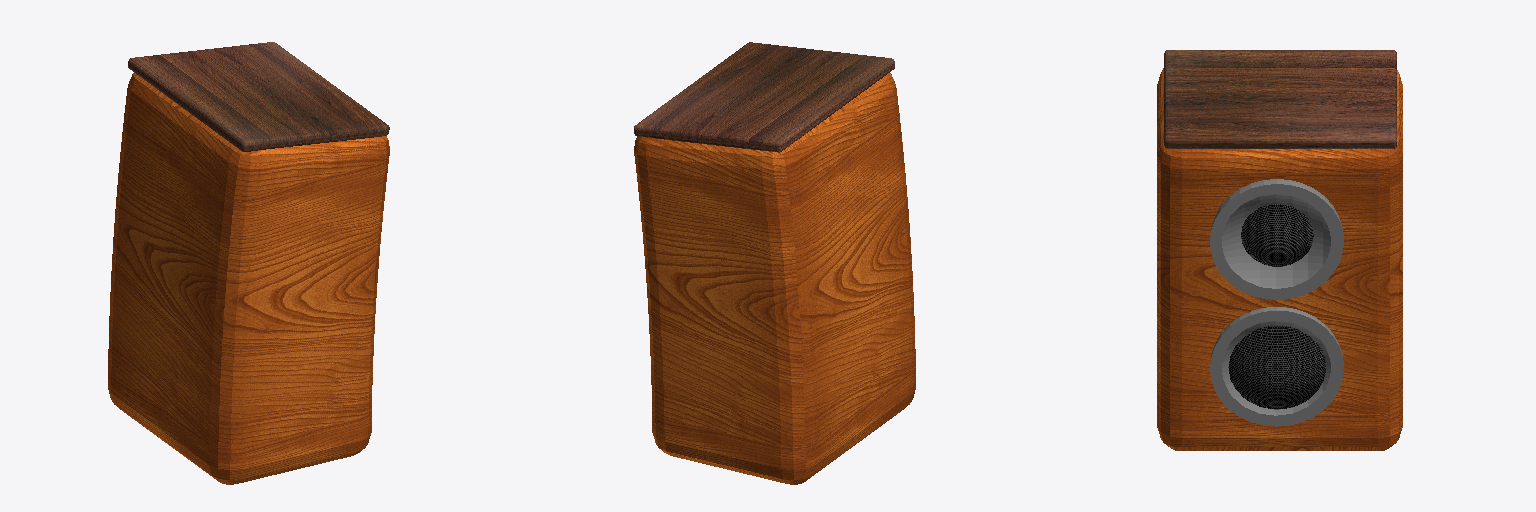
3 renders of one model, left to right at view 1: azimuth 30°, elevation 25°; view 2: azimuth 150°, elevation 25°; view 3: azimuth 270°, elevation 25°, orthographic.
Parts seen in each view (by area): view 1: ChamferBox001; view 2: ChamferBox001; view 3: ChamferBox001.
Boxes of the visible parts, box(x1,y1,x2,y2) form: ChamferBox001: box(108, 42, 389, 484); ChamferBox001: box(634, 42, 915, 484); ChamferBox001: box(1157, 50, 1402, 450).
Size of the model in its own units: 18.07 by 31.11 by 20.
Materials: 4 (4 with a texture image).